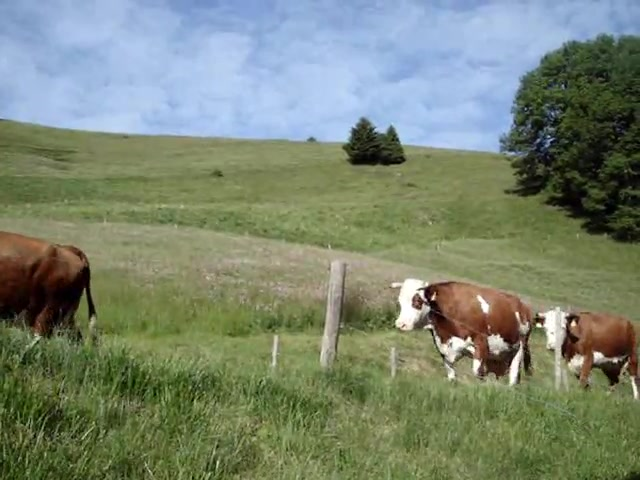cow: (391, 278, 537, 389)
